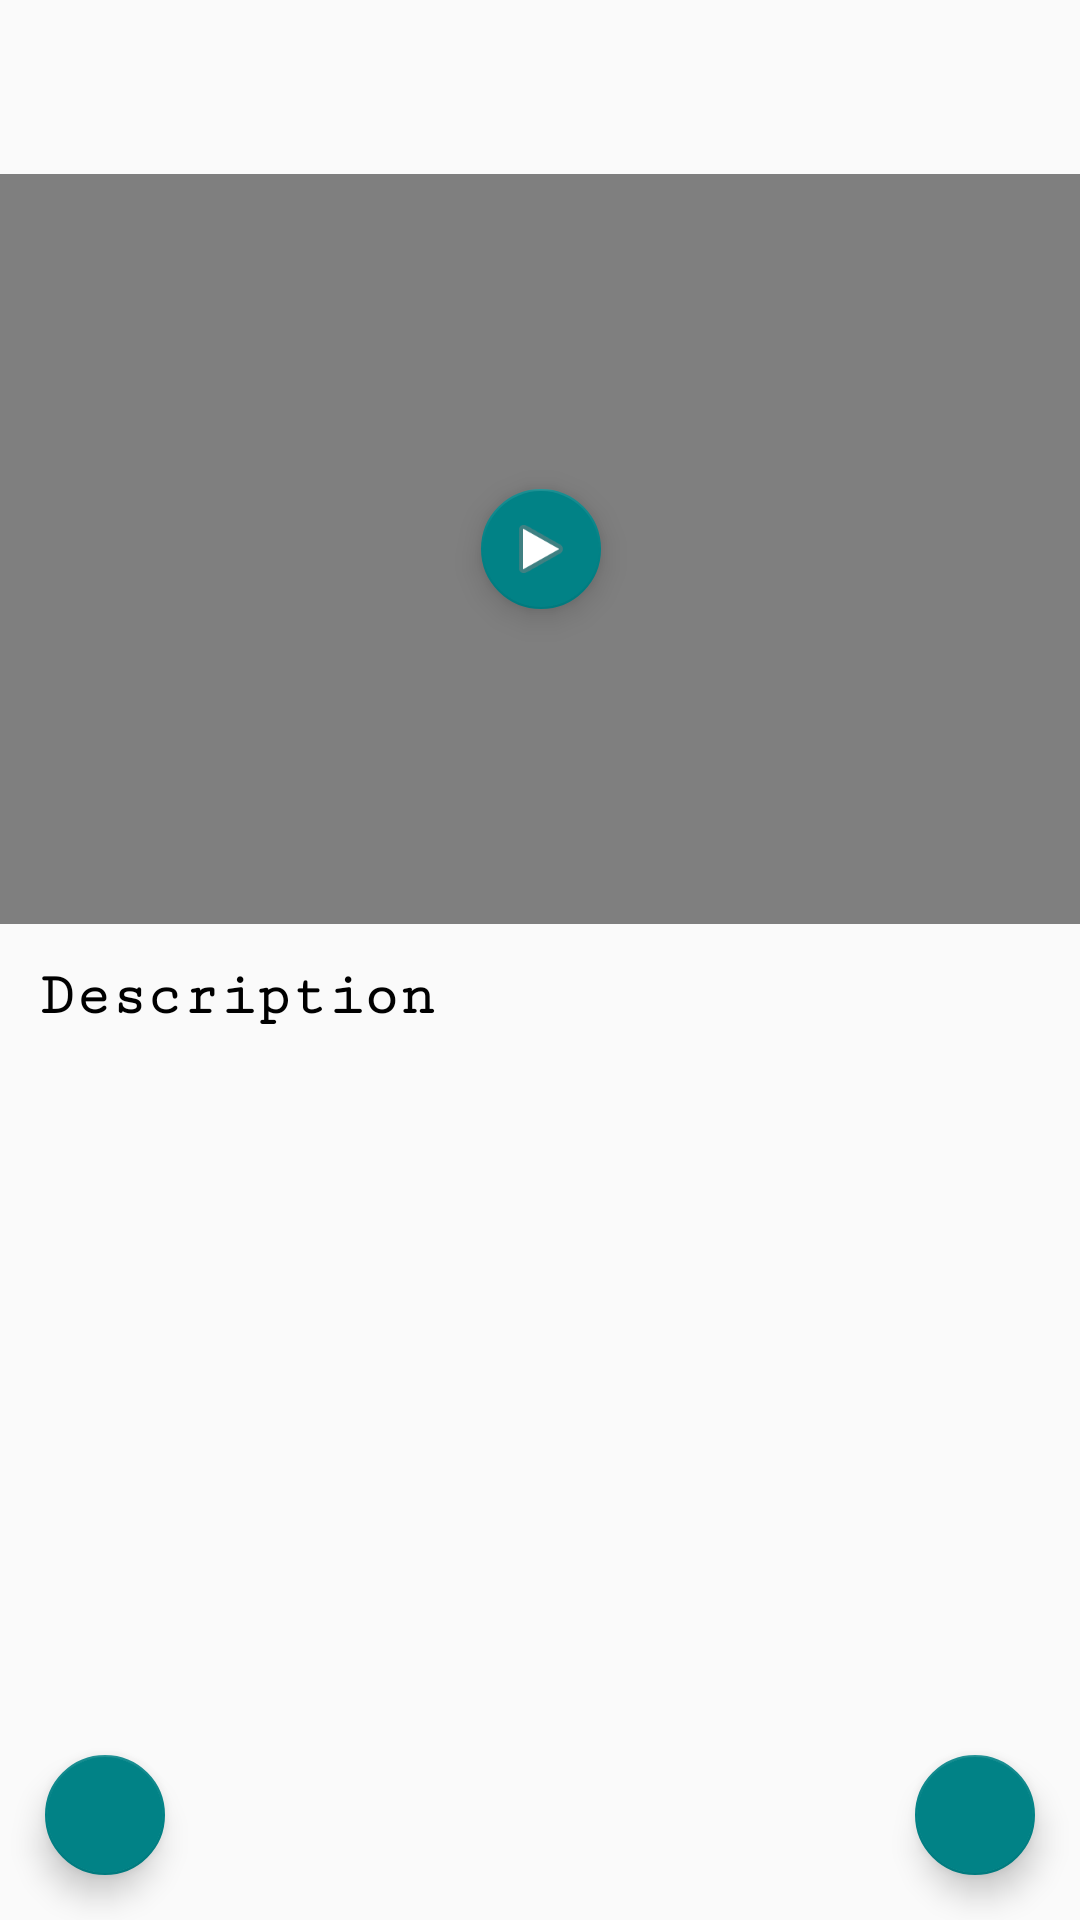

Icons on this 1080px×1920px Android screen, each with its box as Rect(x1, y1, x2, y2):
play: Rect(481, 489, 601, 609)
